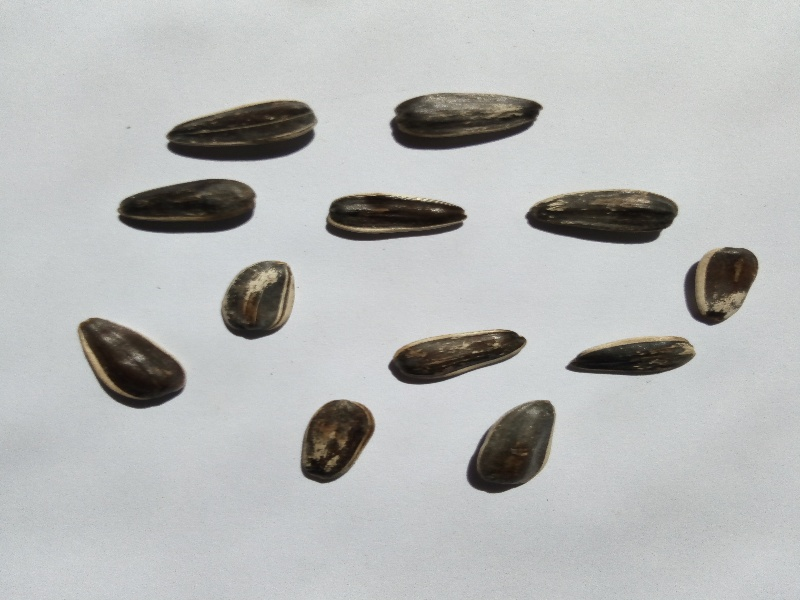girasol: (69, 309, 199, 412), (384, 78, 552, 153), (162, 90, 325, 167), (462, 393, 561, 503), (521, 182, 685, 246), (111, 174, 271, 237), (388, 321, 533, 389), (322, 186, 472, 247), (212, 250, 308, 345), (675, 230, 767, 329), (298, 393, 379, 489), (560, 330, 695, 384)
